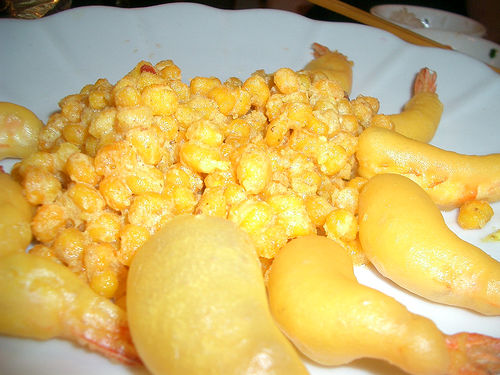corn: (24, 65, 382, 293)
